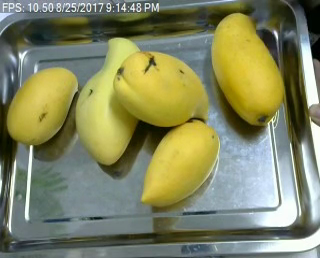Mango: (73, 37, 146, 166), (209, 12, 287, 130), (113, 48, 209, 129), (141, 118, 221, 207), (4, 64, 77, 143)
